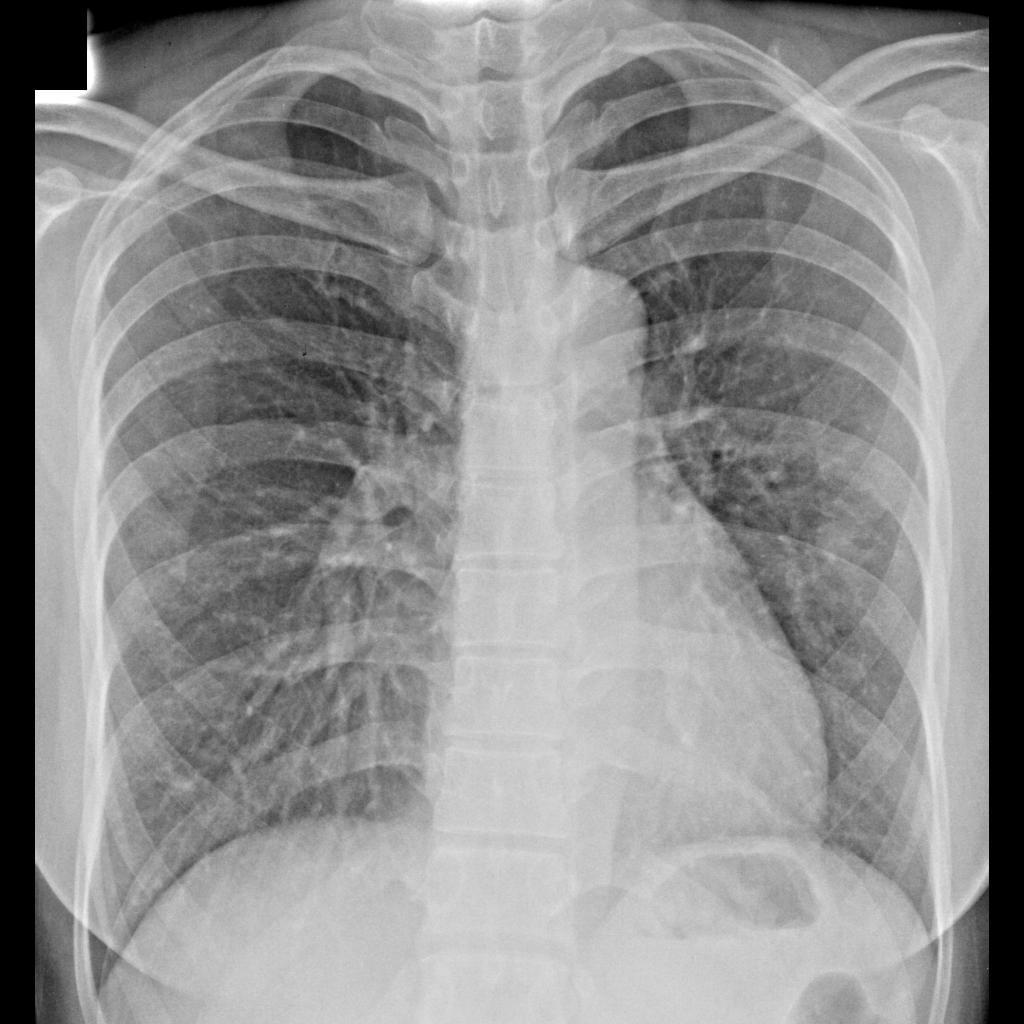Nodule: (813, 521, 866, 574)
